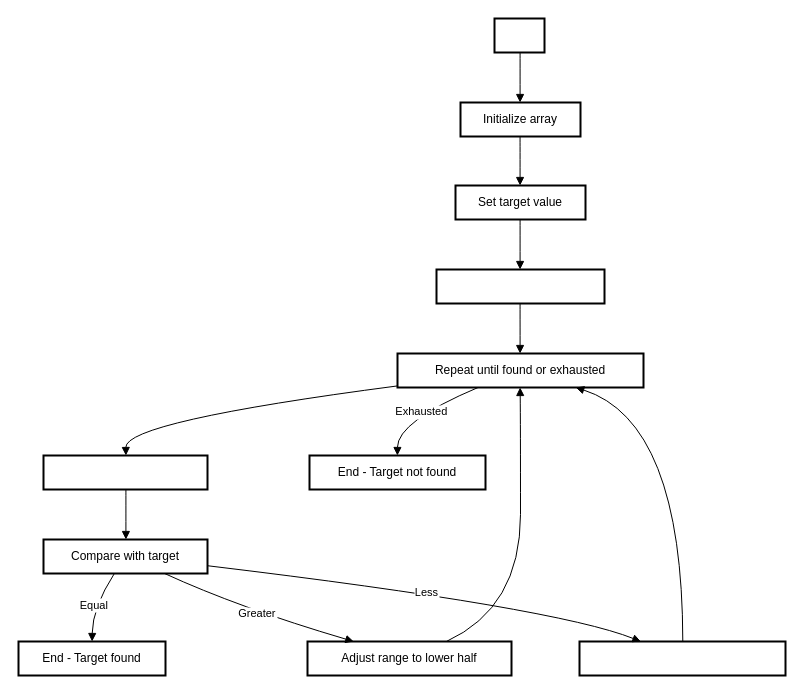
Image size: 803x693. Some labels were removed from this diagram. The shapes that lost their labels are listed below. From the top down, each one's centre as x and y in pixels, then its label:
At [519,35]: "Start".
At [520,286]: "Set initial boundaries".
At [125,472]: "Find middle element".
At [682,658]: "Adjust range to upper half".
